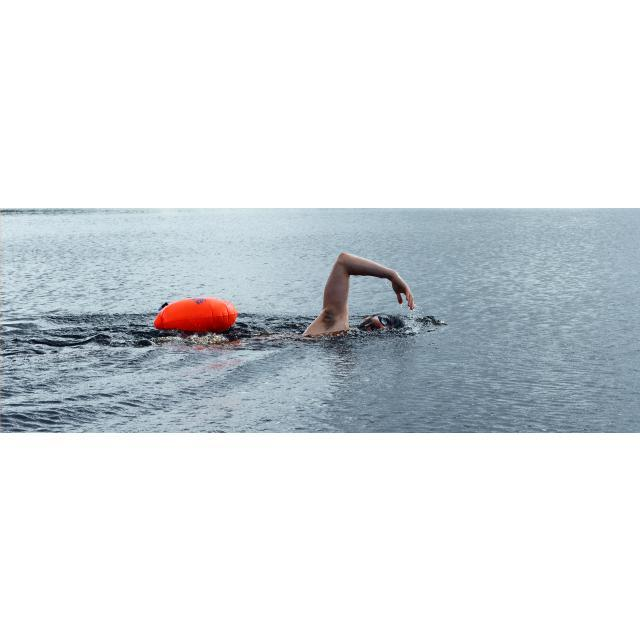human: (294, 251, 429, 344)
